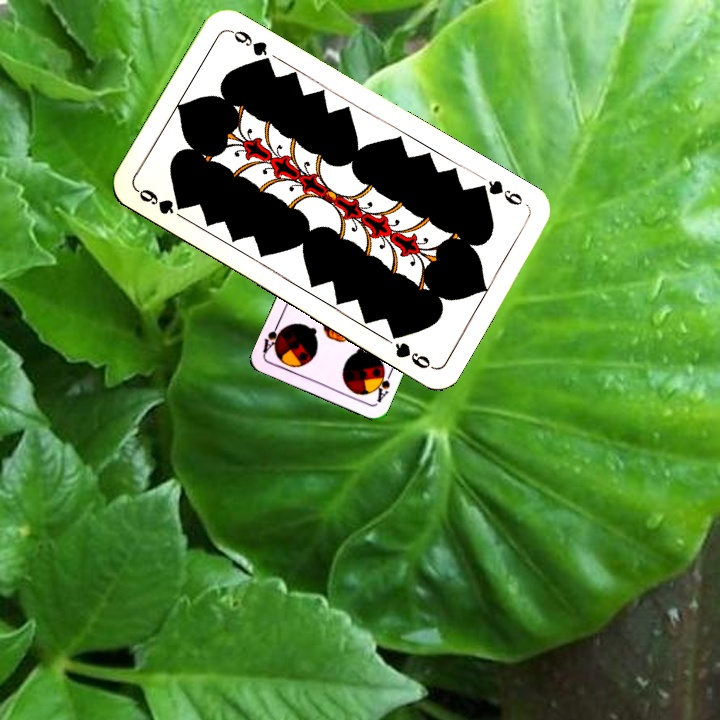G9: (133, 185, 187, 217), (472, 176, 526, 208)
SA: (370, 364, 395, 405)
